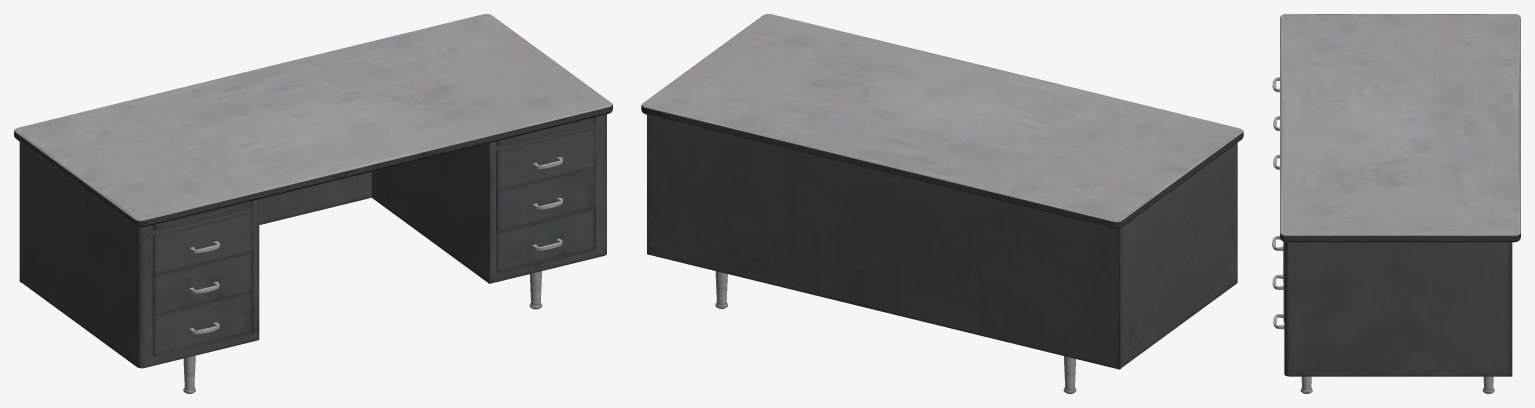
Rendered from deskMetal.glb.
3 renders of one model, left to right at view 1: azimuth 30°, elevation 25°; view 2: azimuth 150°, elevation 25°; view 3: azimuth 270°, elevation 25°, orthographic. The views are drawn at different scales.
Visible parts, largest first — view 1: metal_office_desk, metal_office_desk_drawer_04, metal_office_desk_drawer_01, metal_office_desk_drawer_02, metal_office_desk_drawer_03, metal_office_desk_drawer_06, metal_office_desk_drawer_05, metal_office_desk_tray_01, metal_office_desk_tray_02; view 2: metal_office_desk; view 3: metal_office_desk.
Boxes of the visible parts, x1,y1,x2,y2 form: metal_office_desk: (14, 14, 612, 393); metal_office_desk_drawer_04: (153, 210, 252, 275); metal_office_desk_drawer_01: (496, 126, 595, 191); metal_office_desk_drawer_02: (496, 167, 595, 231); metal_office_desk_drawer_03: (496, 208, 594, 272); metal_office_desk_drawer_06: (153, 292, 251, 356); metal_office_desk_drawer_05: (153, 252, 251, 315); metal_office_desk_tray_01: (153, 201, 251, 230); metal_office_desk_tray_02: (496, 117, 594, 146); metal_office_desk: (641, 14, 1243, 393); metal_office_desk: (1280, 14, 1520, 393).
Size of the model in its own units: 2 by 0.7874 by 0.9472.
1 material, 1 textured.
